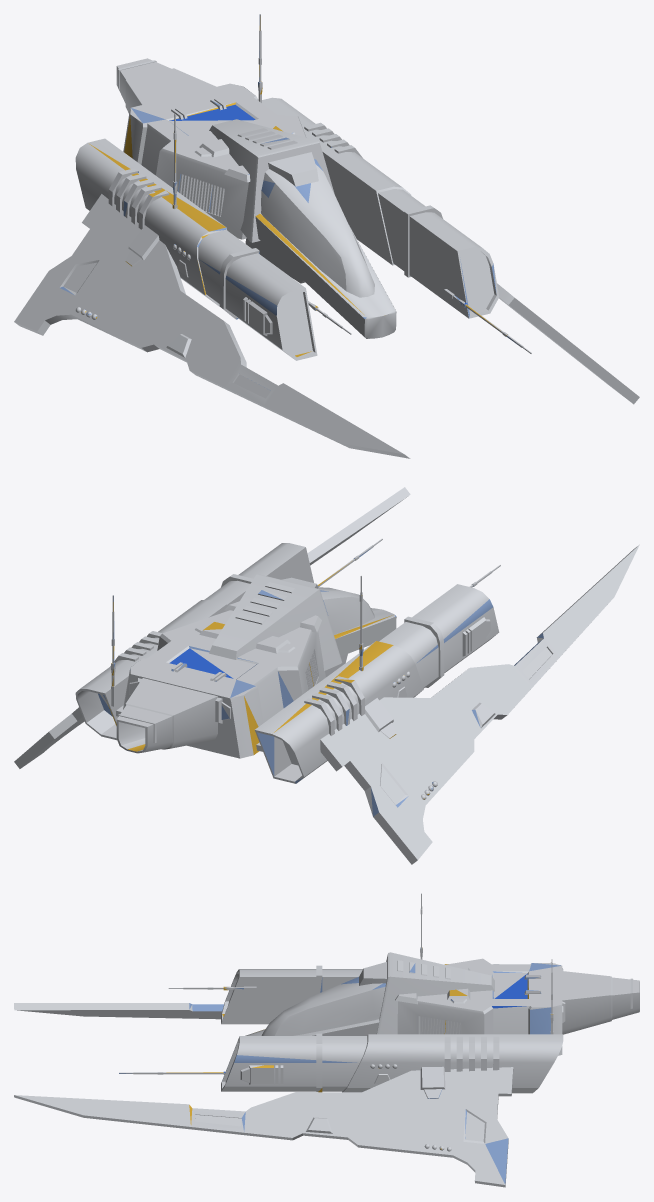
Rendered from lightcruiser.glb.
3 renders of one model, top to bottom at view 1: azimuth 30°, elevation 25°; view 2: azimuth 150°, elevation 25°; view 3: azimuth 270°, elevation 25°, orthographic. The views are drawn at different scales.
Parts seen in each view (by area): view 1: Striker; view 2: Striker; view 3: Striker.
Boxes of the visible parts, box(x1,y1,x2,y2) form: Striker: box(14, 14, 639, 458); Striker: box(14, 487, 639, 864); Striker: box(14, 893, 639, 1187).
Size of the model in its own units: 5.97 by 3.19 by 10.
